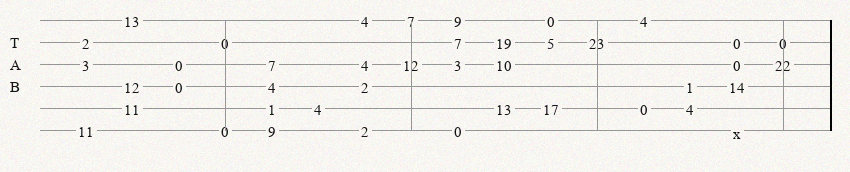0: (175, 79, 187, 93), (175, 57, 187, 71), (221, 123, 233, 137), (221, 35, 233, 49), (454, 123, 466, 137), (547, 13, 559, 27), (640, 101, 652, 115), (733, 57, 745, 71), (733, 35, 745, 49), (779, 35, 791, 49)
1: (268, 101, 280, 115), (686, 79, 698, 93)
10: (496, 57, 516, 71)
11: (78, 123, 98, 137), (124, 101, 144, 115)
12: (124, 79, 144, 93), (403, 57, 423, 71)
13: (124, 13, 144, 27), (496, 101, 516, 115)
14: (729, 79, 749, 93)
17: (543, 101, 563, 115)
19: (496, 35, 516, 49)
2: (82, 35, 94, 49), (361, 79, 373, 93), (361, 123, 373, 137)
22: (775, 57, 795, 71)
23: (589, 35, 609, 49)
3: (82, 57, 94, 71), (454, 57, 466, 71)
4: (268, 79, 280, 93), (314, 101, 326, 115), (361, 13, 373, 27), (361, 57, 373, 71), (640, 13, 652, 27), (686, 101, 698, 115)
5: (547, 35, 559, 49)
7: (268, 57, 280, 71), (407, 13, 419, 27), (454, 35, 466, 49)
9: (268, 123, 280, 137), (454, 13, 466, 27)
x: (733, 125, 745, 136)
